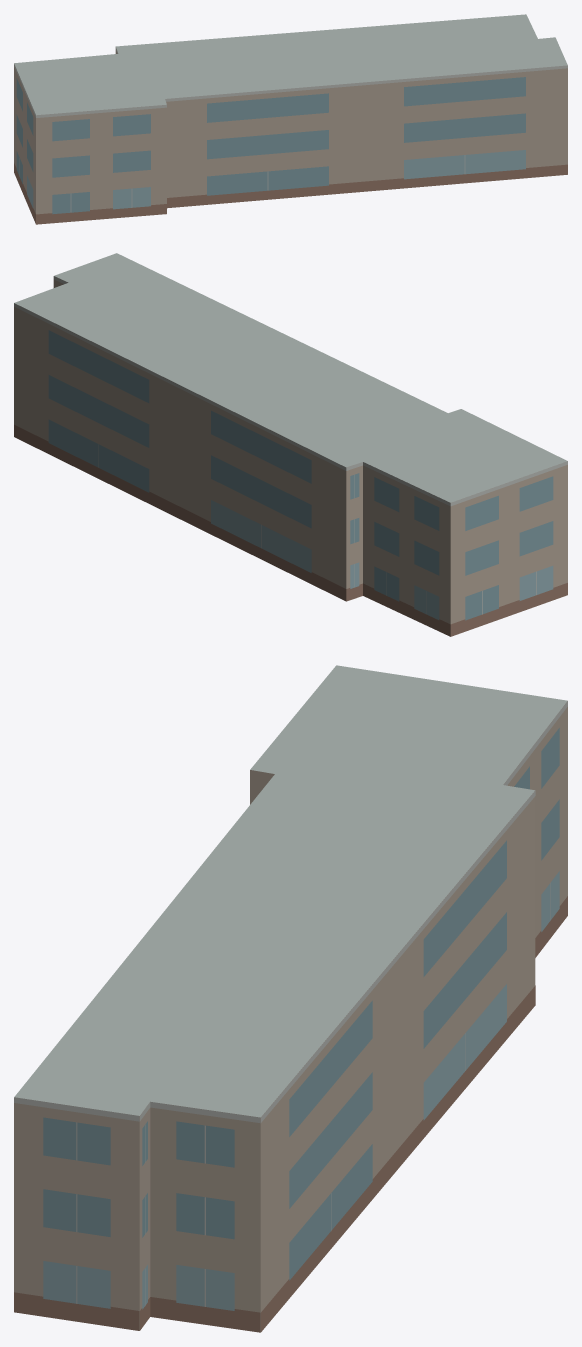
File: survey-upis-32520165.glb
3 views of the same model, one above another, from view 1: azimuth 30°, elevation 25°; view 2: azimuth 150°, elevation 25°; view 3: azimuth 270°, elevation 25° (orthographic). The views are drawn at different scales.
Visible parts, largest first — view 1: survey-upis-32520165.tmp; view 2: survey-upis-32520165.tmp; view 3: survey-upis-32520165.tmp.
Part boxes in pixels (left/top/right/bottom): survey-upis-32520165.tmp: left=14, top=14, right=567, bottom=224; survey-upis-32520165.tmp: left=14, top=253, right=567, bottom=636; survey-upis-32520165.tmp: left=14, top=665, right=567, bottom=1332.
Bounding box in the file's own units: 41.27 × 9.15 × 21.36.
